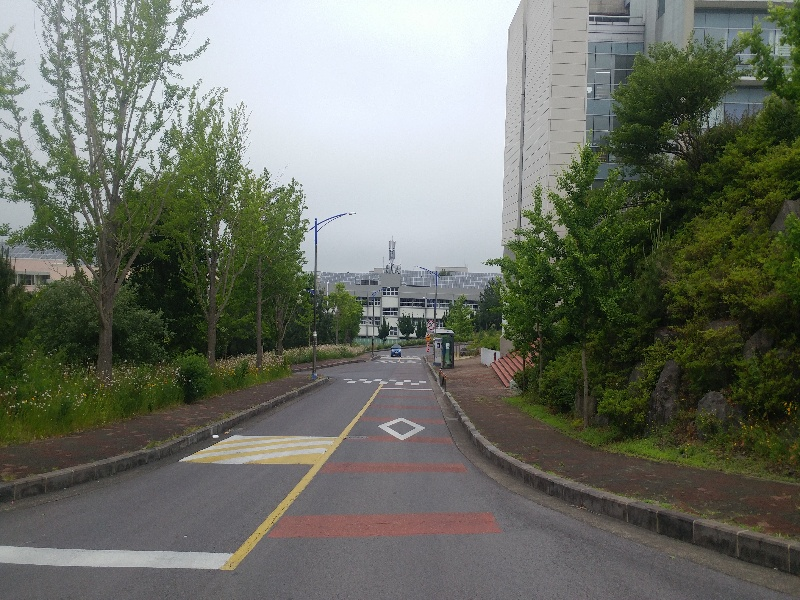Cultural lecture hall: (326, 277, 492, 339)
Engineering College Building 4: (494, 3, 639, 249)
